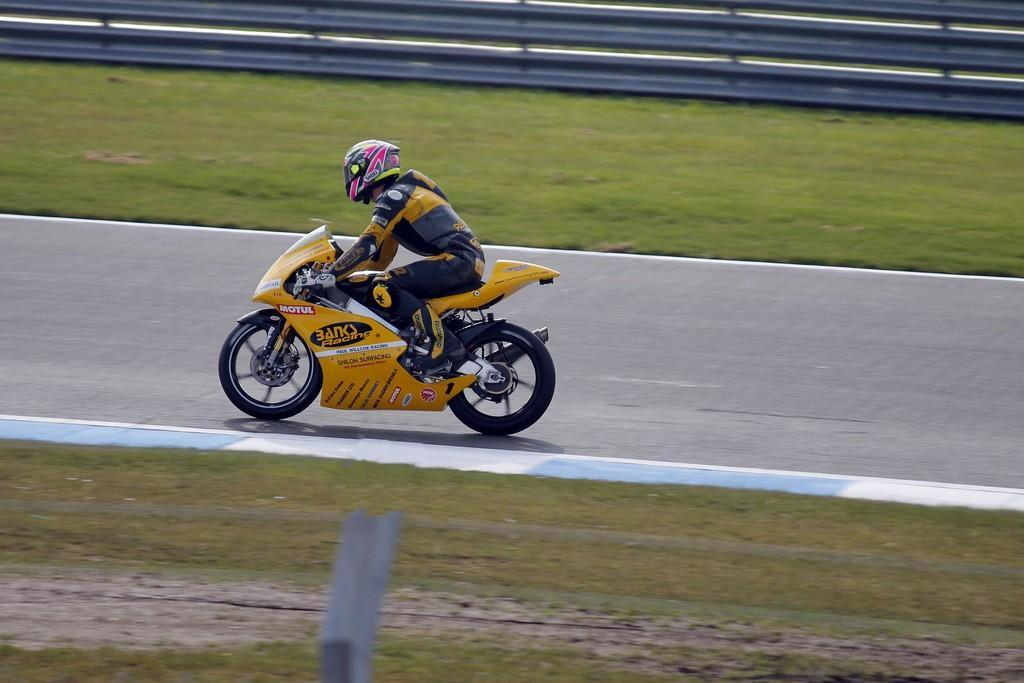helmet: (343, 138, 401, 205)
